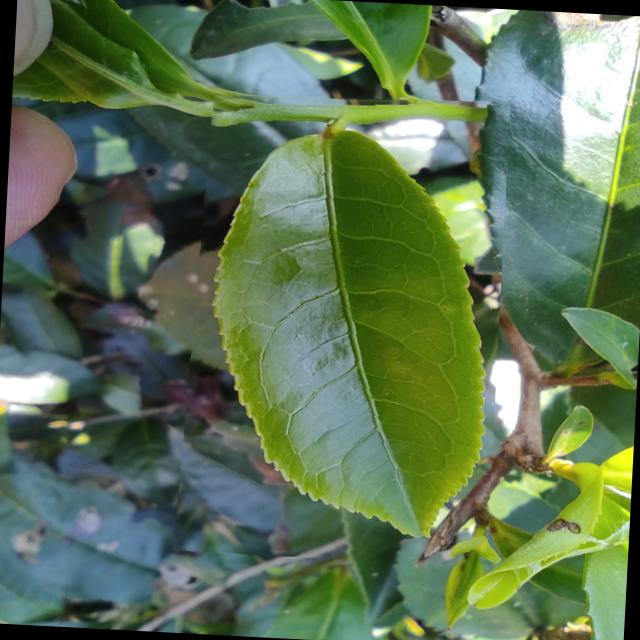Category C(4-7 days): (172, 85, 509, 567)
